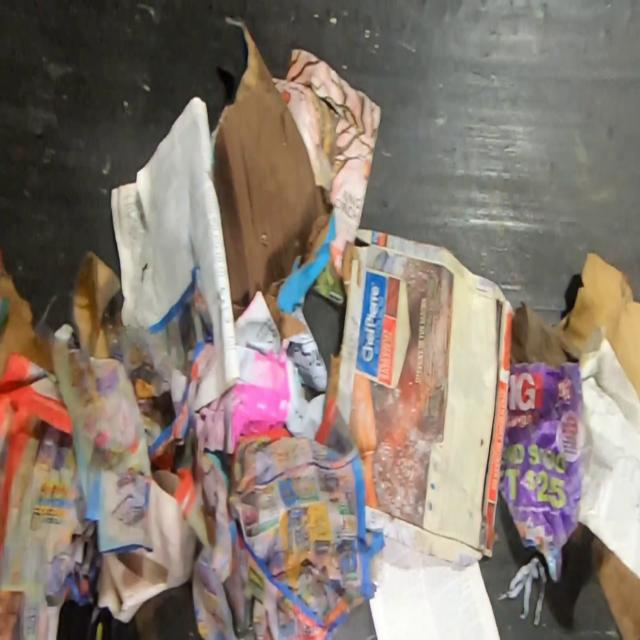cardboard: (324, 228, 513, 566), (210, 19, 336, 341), (0, 353, 102, 640), (556, 250, 640, 407), (0, 262, 51, 375), (587, 533, 640, 640), (70, 247, 120, 359), (510, 301, 568, 368)
soft_plastic: (193, 344, 290, 454), (104, 304, 188, 403)
